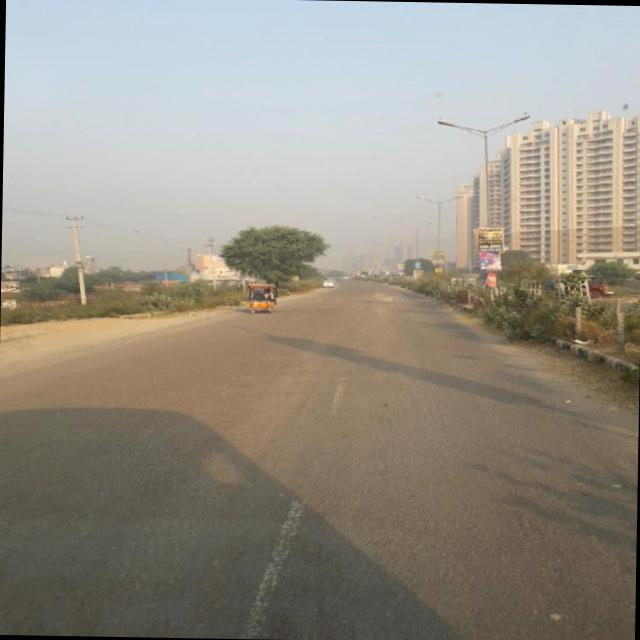crack: (342, 373, 632, 621)
